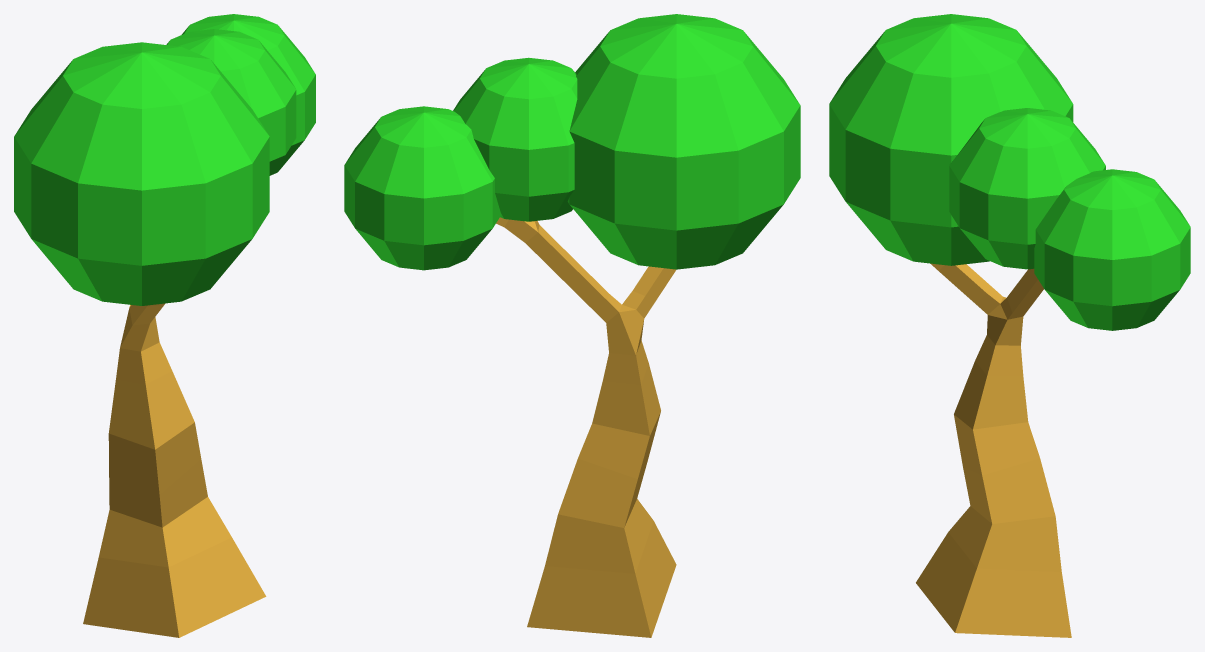
The model's file is tree2.fbx.
3 views of the same model, side by side, from view 1: azimuth 30°, elevation 25°; view 2: azimuth 150°, elevation 25°; view 3: azimuth 270°, elevation 25° (orthographic). The views are drawn at different scales.
Parts seen in each view (by area): view 1: Cylinder.002; view 2: Cylinder.002; view 3: Cylinder.002.
Boxes of the visible parts, x1,y1,x2,y2 form: Cylinder.002: (14,14,315,637); Cylinder.002: (344,14,800,637); Cylinder.002: (829,14,1190,637).
Bounding box in the file's own units: 480 × 766 × 439.
